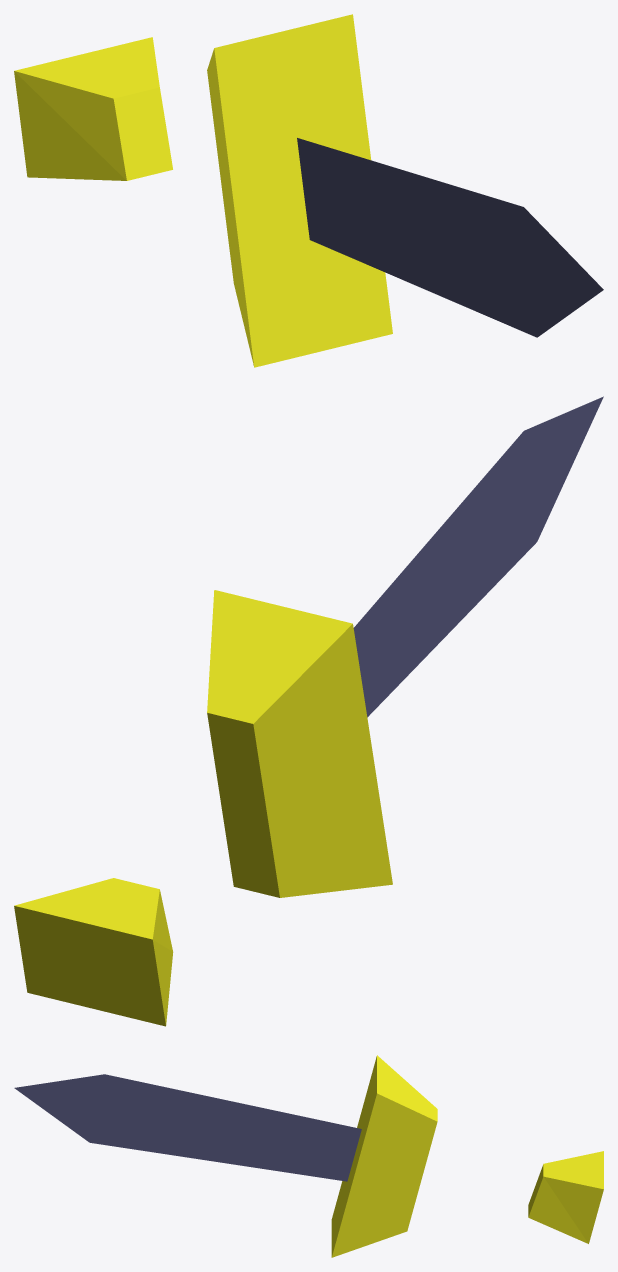
3 views of the same model, one above another, from view 1: azimuth 30°, elevation 25°; view 2: azimuth 150°, elevation 25°; view 3: azimuth 270°, elevation 25° (orthographic). The views are drawn at different scales.
Bounding box in the file's own units: 6 × 12 × 39.
1 material, 1 textured.
